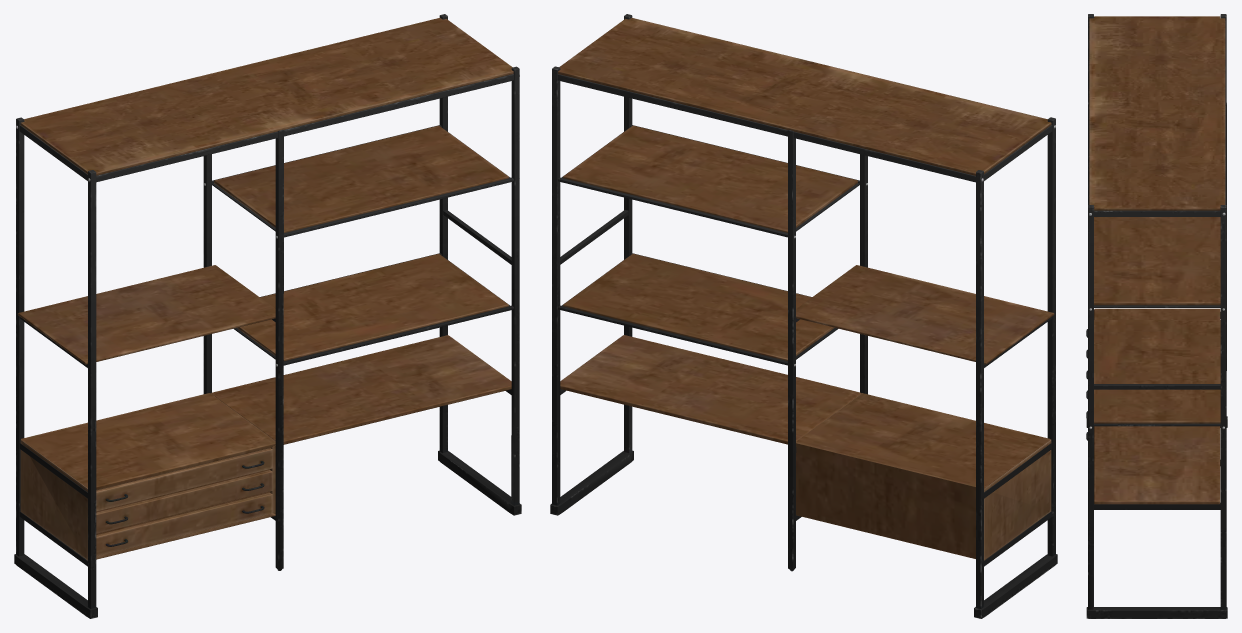
Rendered from steel_frame_shelves_03.glb.
3 renders of one model, left to right at view 1: azimuth 30°, elevation 25°; view 2: azimuth 150°, elevation 25°; view 3: azimuth 270°, elevation 25°, orthographic. The views are drawn at different scales.
Parts seen in each view (by area): view 1: steel_frame_shelves_03; view 2: steel_frame_shelves_03; view 3: steel_frame_shelves_03.
Part boxes in pixels (<box>): steel_frame_shelves_03: <box>14,14,521,618</box>; steel_frame_shelves_03: <box>550,14,1057,618</box>; steel_frame_shelves_03: <box>1086,14,1227,618</box>.
Bounding box in the file's own units: 2.35 × 2.31 × 0.7213.
Materials: 2 (2 with a texture image).
